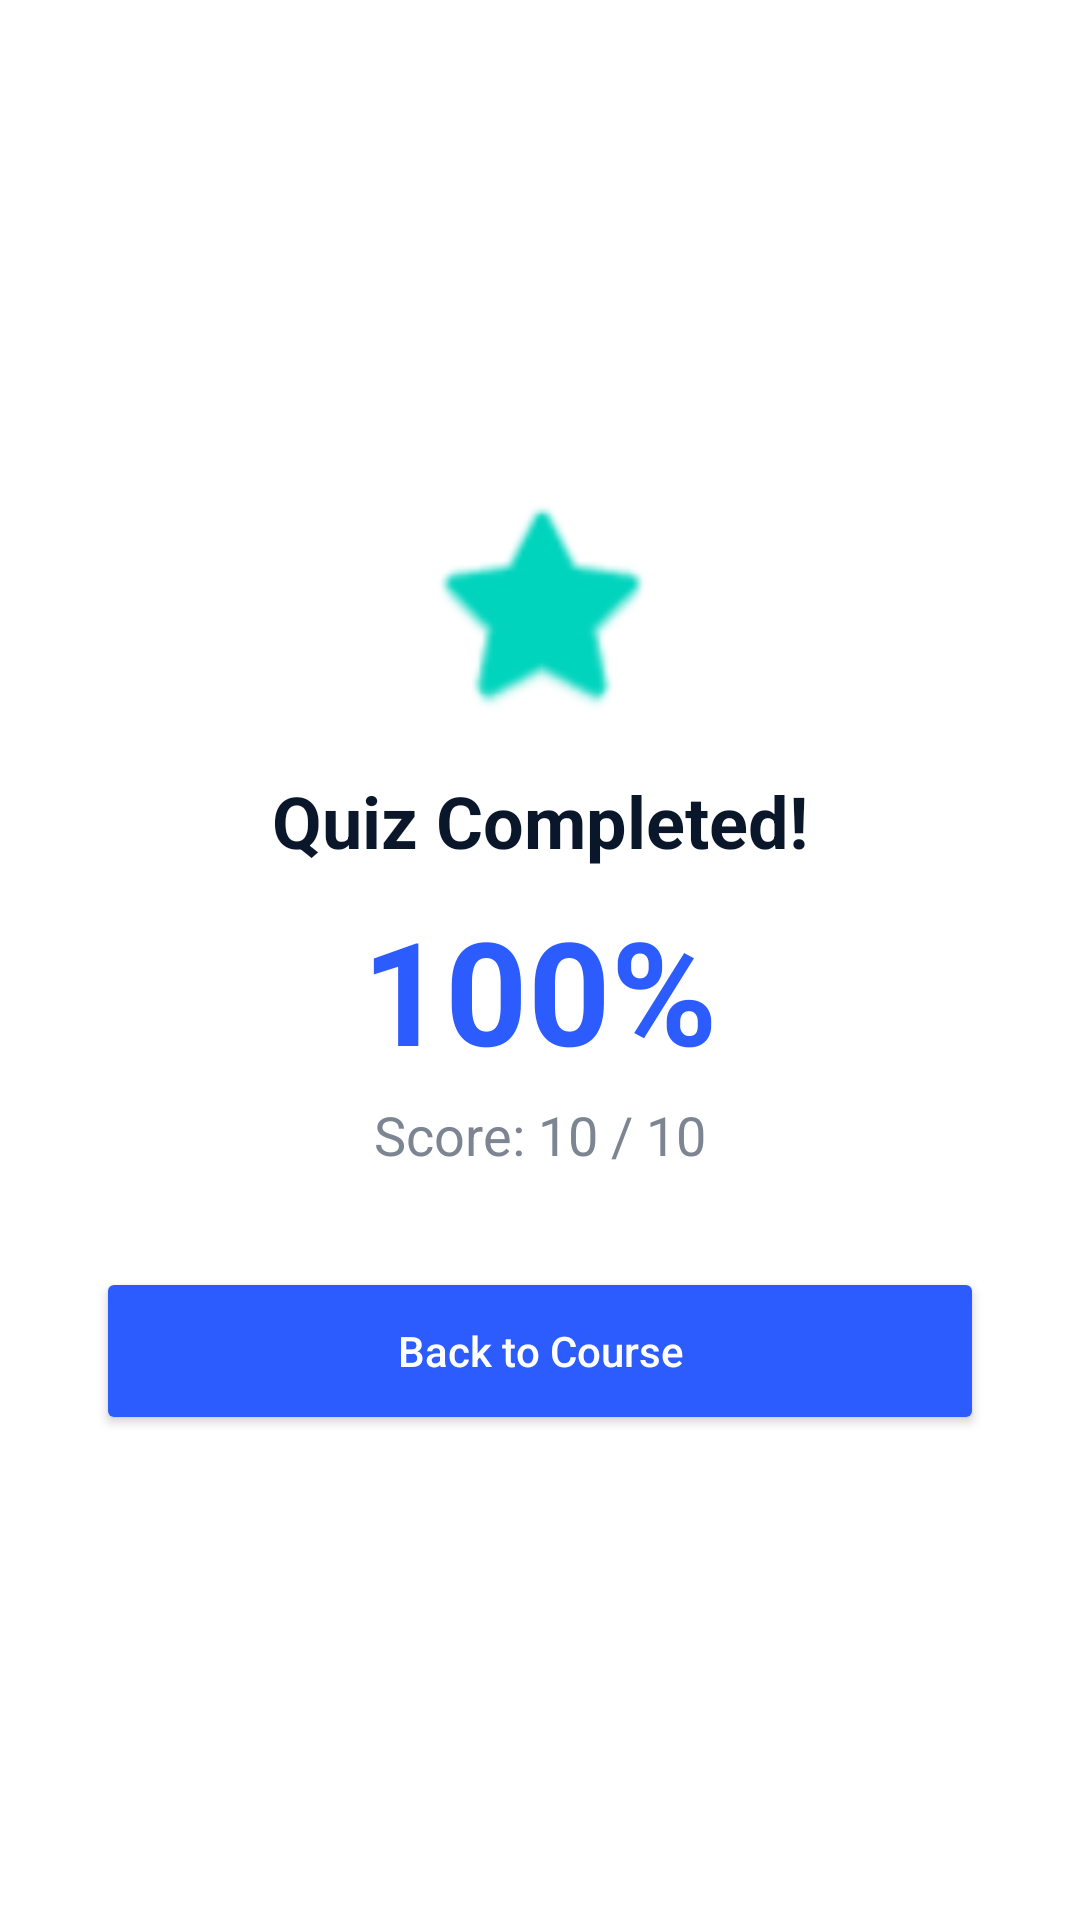

Icons on this 1080w x 1920h Android screen, each with the point to tap as (x=x, y=y):
star on: (x=542, y=606)
